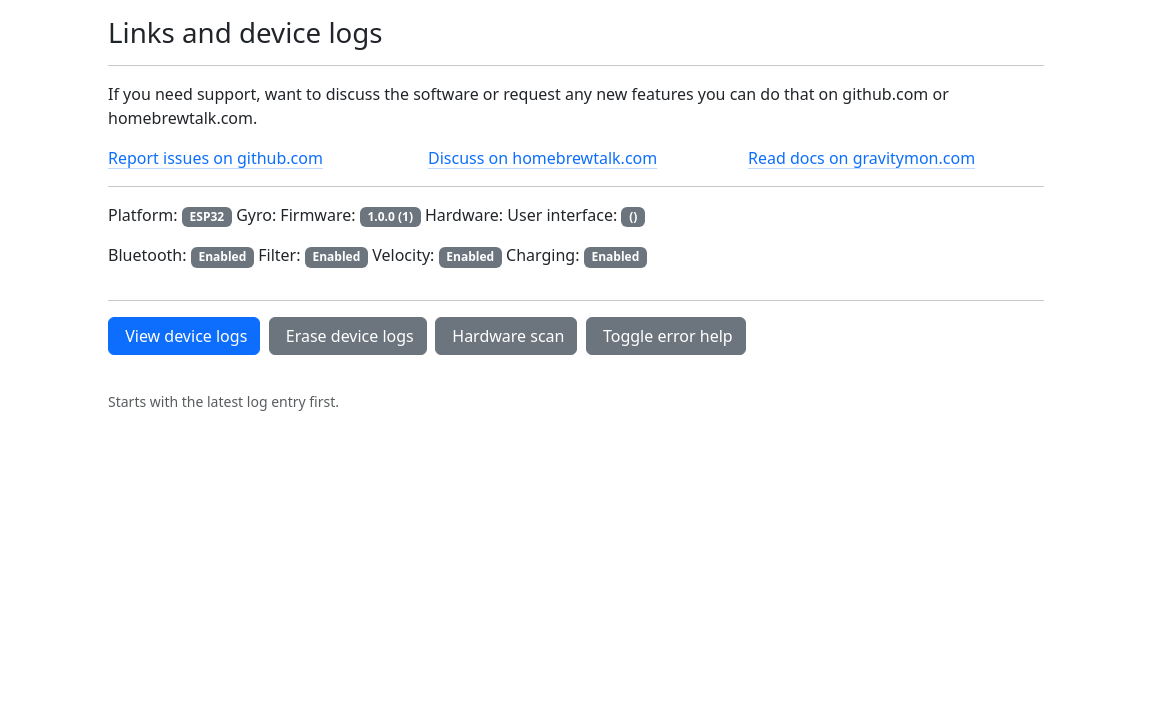
it: SupportView (action tests) › toggle error help button hides section on second click
The width and height of the screenshot is (1152, 717).
Click the button "Toggle error help" at (666, 336), box [586,317,746,355]
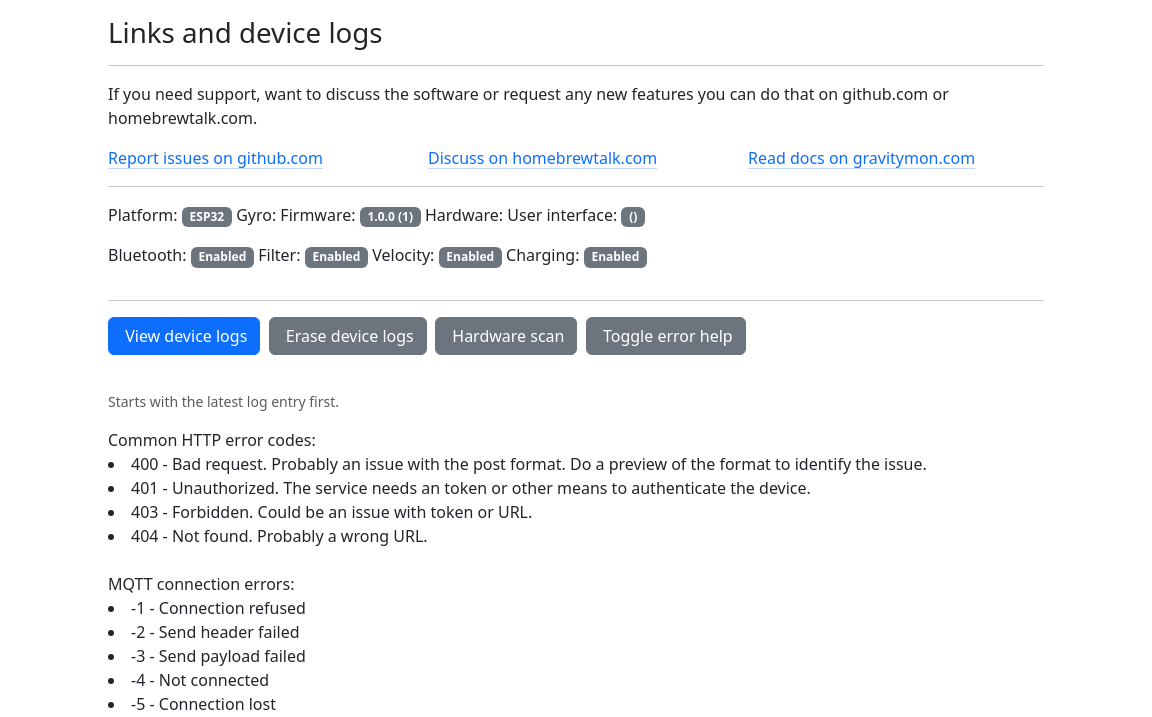
Click the button "Toggle error help" at (666, 336), box [586,317,746,355]
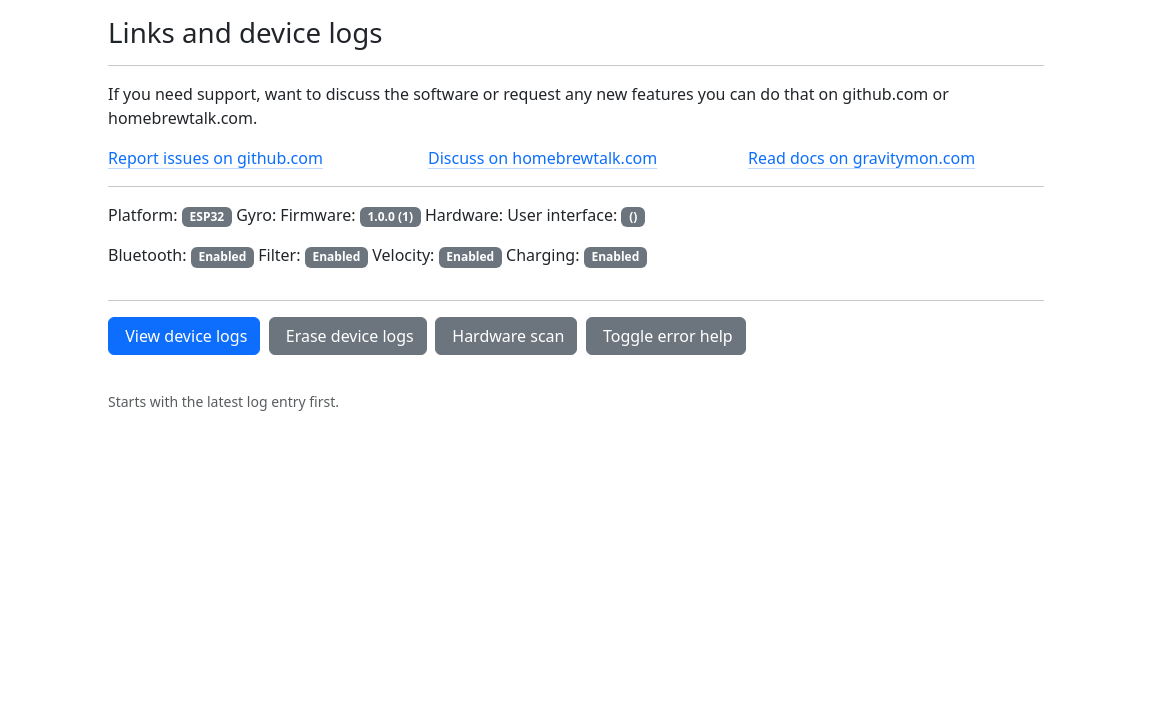
Expected: the text "400 - Bad request" is gone
